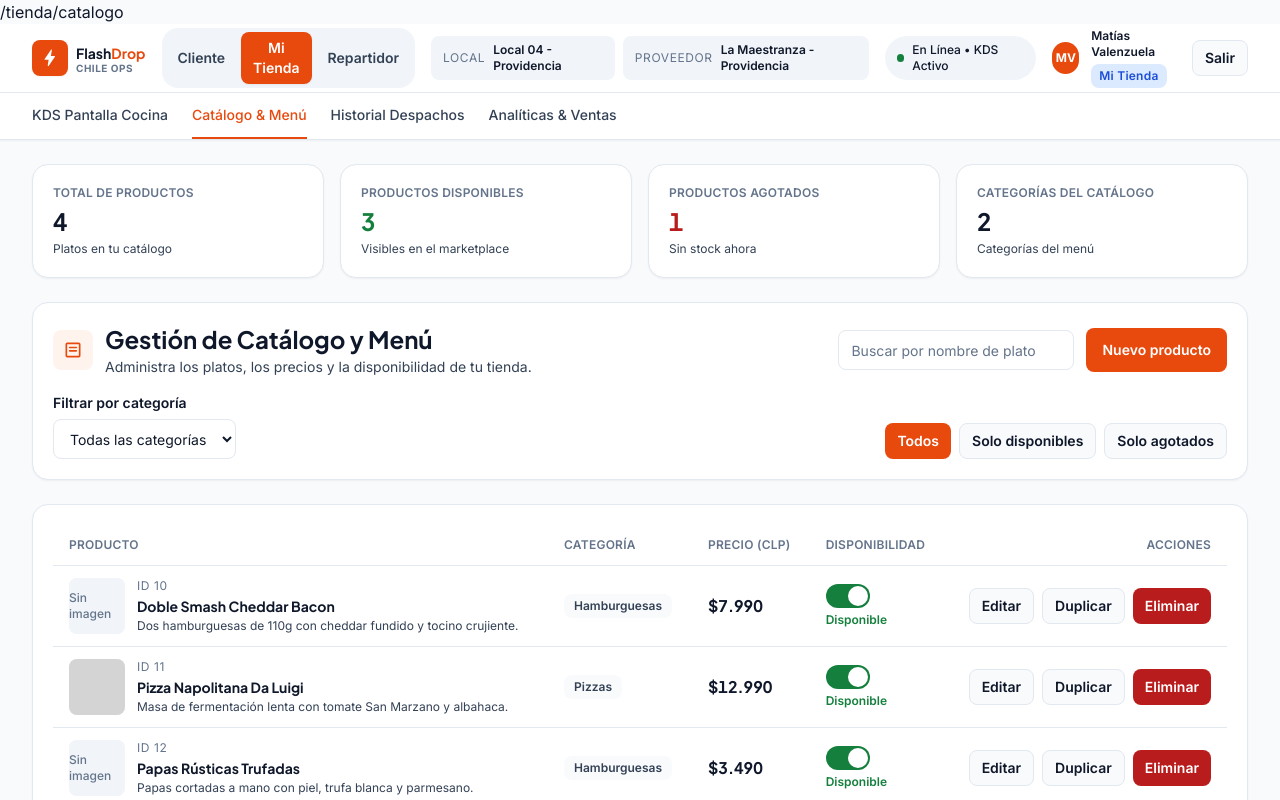
Test: store catalog management › opens a prefilled create form when a product is duplicated
Click the button with aria-label "Duplicar Doble Smash Cheddar Bacon" at (1083, 606), box top-left (1042, 588), bottom-right (1125, 624)
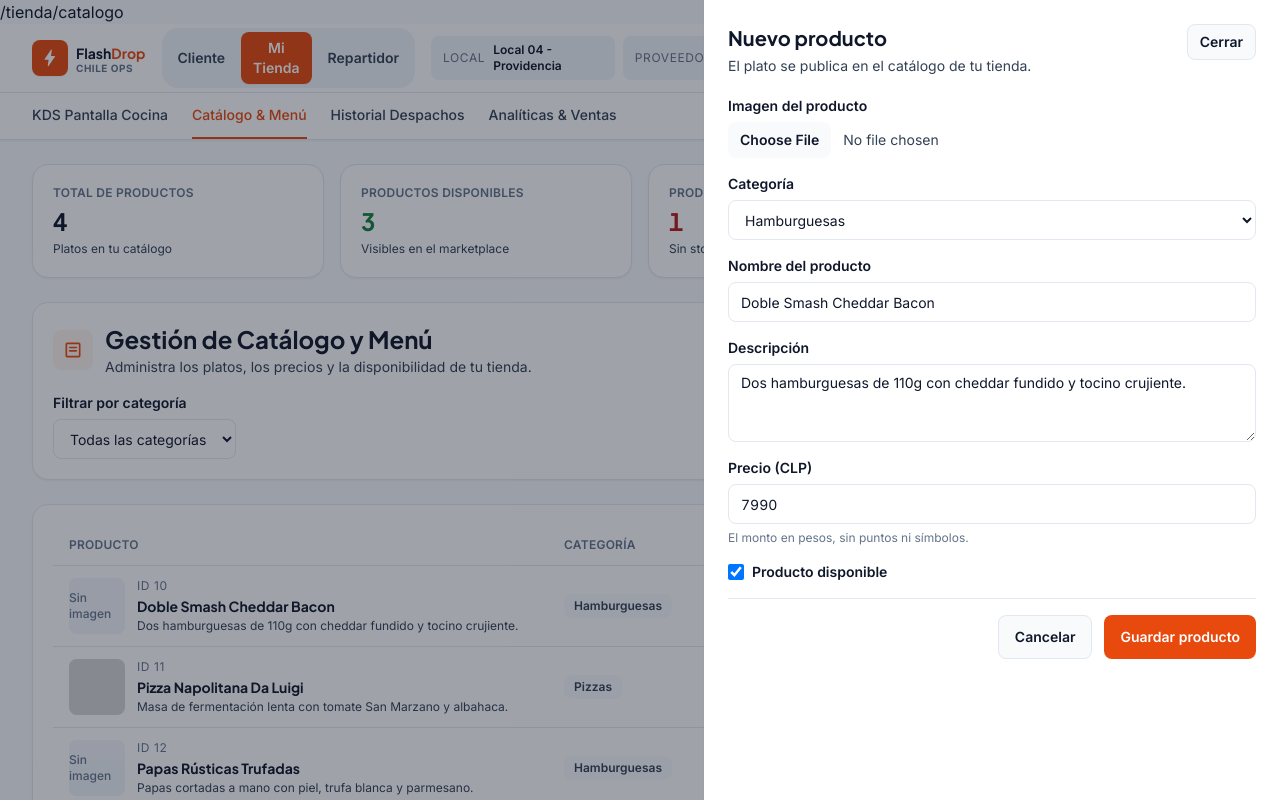
Result: the field labelled "Nombre del producto" holds "Doble Smash Cheddar Bacon" at top-left (728, 282), bottom-right (1256, 322)
Result: the field labelled "Precio (CLP)" holds "7990" at top-left (728, 484), bottom-right (1256, 524)
